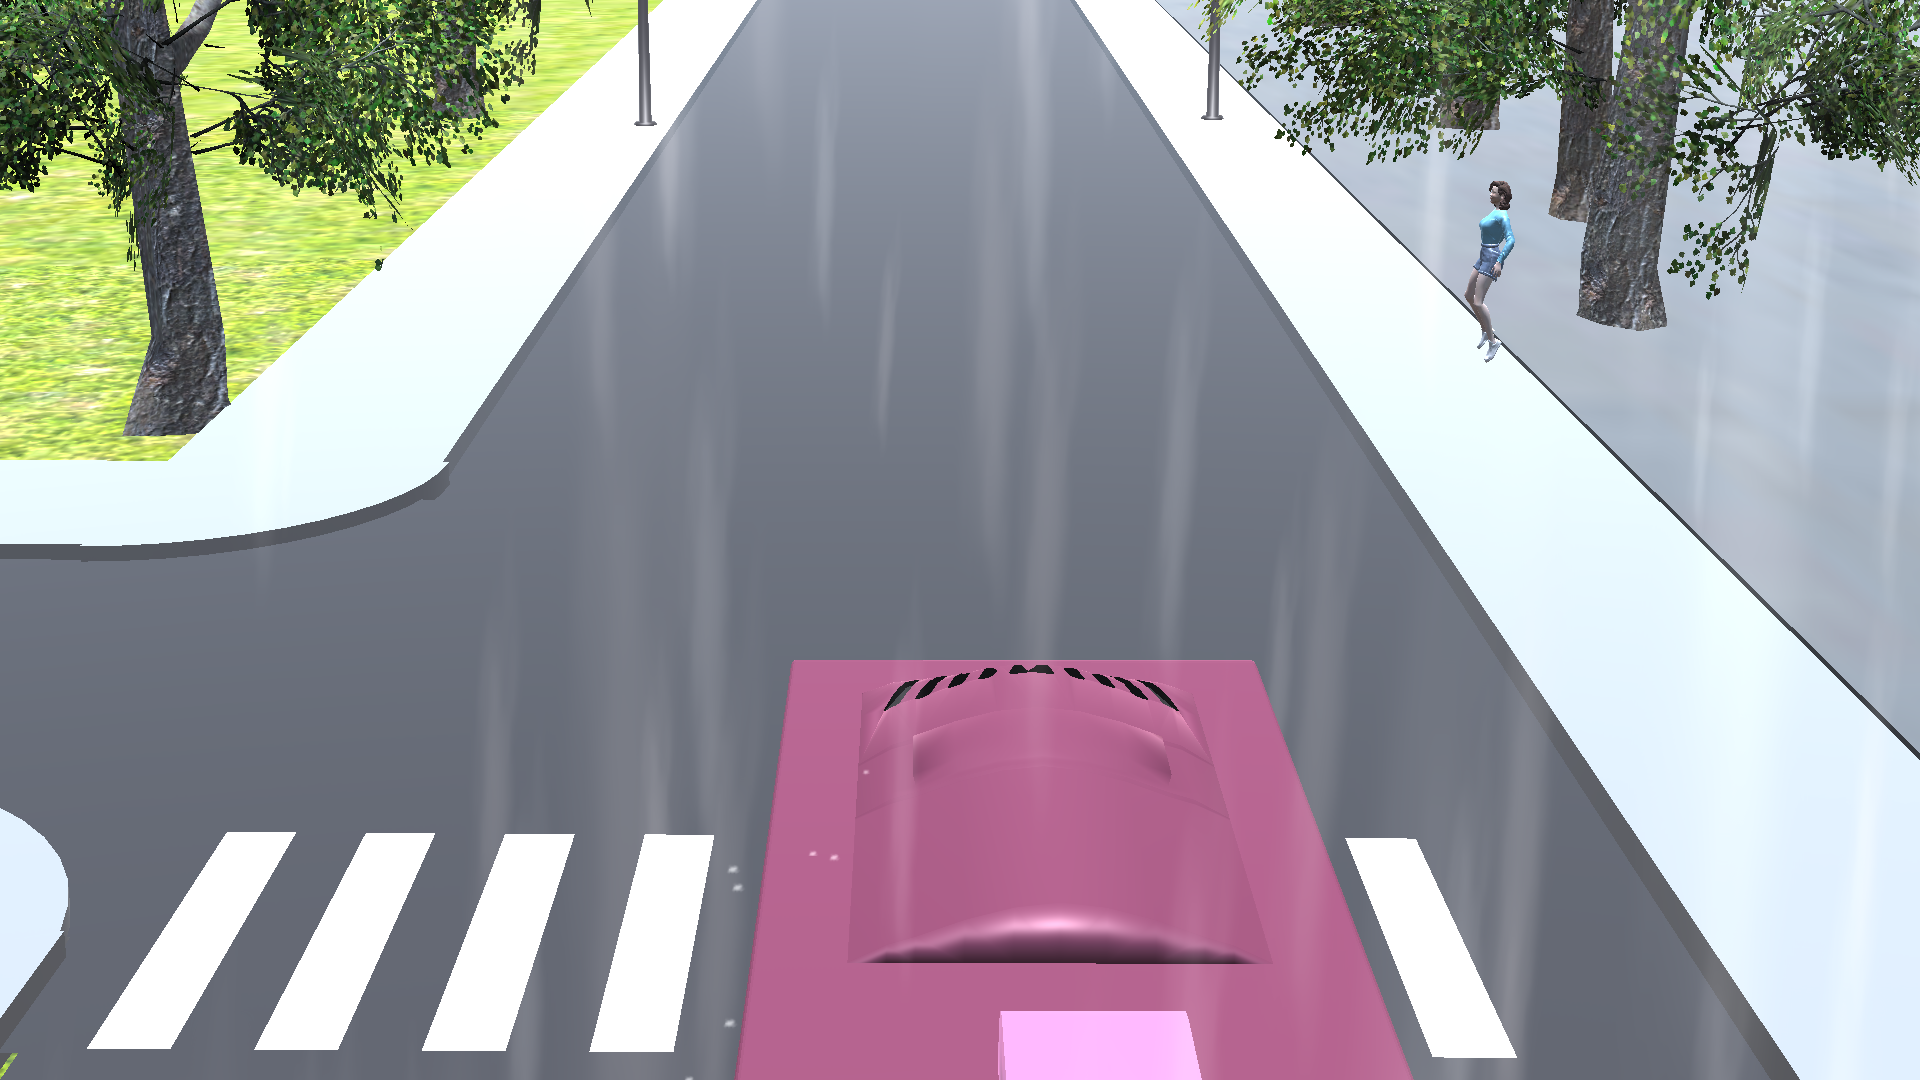pedestrian: (1463, 173, 1521, 375)
